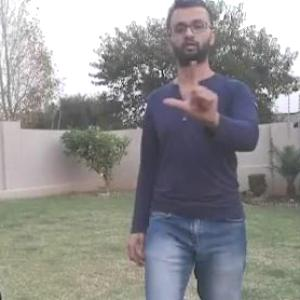land_hand: (159, 52, 226, 132)
